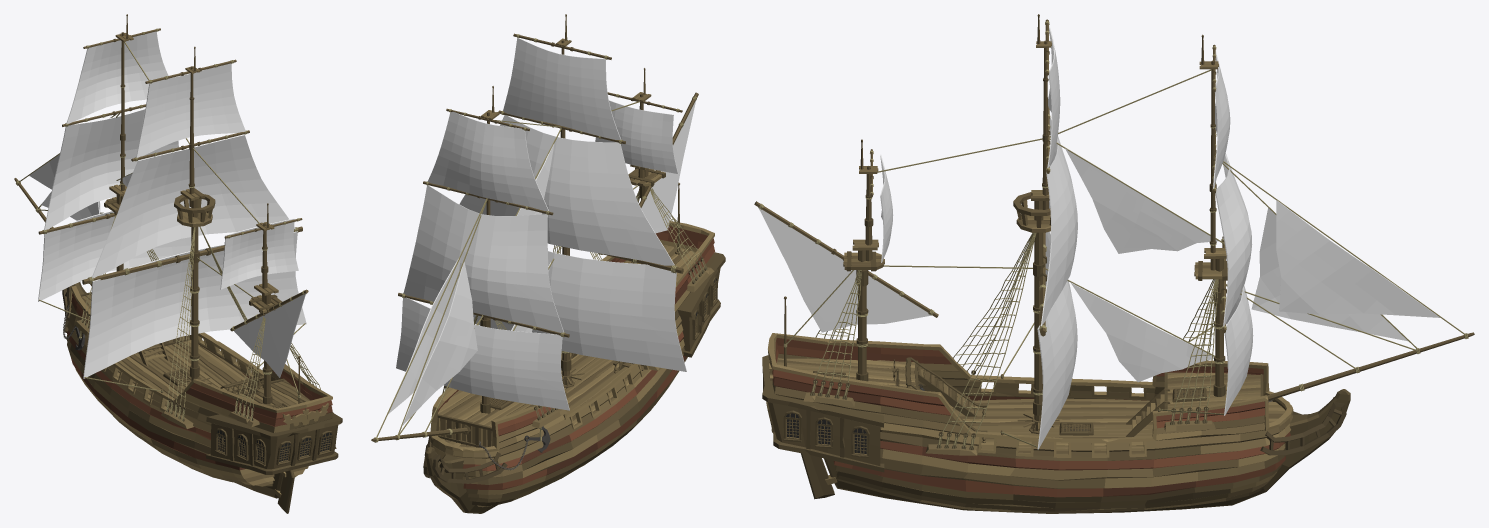
File: ship.fbx
3 renders of one model, left to right at view 1: azimuth 30°, elevation 25°; view 2: azimuth 150°, elevation 25°; view 3: azimuth 270°, elevation 25°, orthographic. The views are drawn at different scales.
Visible parts, largest first — view 1: LargeShip_3_Sails4, LargeShip_3, LargeShip_3_Sails2, LargeShip_3_Sails5, LargeShip_3_Mast2, LargeShip_3_Mast1, LargeShip_3_Mast3, LargeShip_3_Sails1; view 2: LargeShip_3_Sails4, LargeShip_3_Sails2, LargeShip_3, LargeShip_3_Sails1, LargeShip_3_Sails5, LargeShip_3_Mast2, LargeShip_3_Mast1, LargeShip_3_Mast3, LargeShip_3_Sails3; view 3: LargeShip_3, LargeShip_3_Sails1, LargeShip_3_Sails3, LargeShip_3_Sails4, LargeShip_3_Sails5, LargeShip_3_Sails2, LargeShip_3_Mast2, LargeShip_3_Mast3, LargeShip_3_Mast1.
Boxes of the visible parts, x1=… form: LargeShip_3_Sails4: x1=83, y1=63, x2=306, y2=378; LargeShip_3: x1=14, y1=42, x2=342, y2=513; LargeShip_3_Sails2: x1=38, y1=31, x2=191, y2=301; LargeShip_3_Sails5: x1=220, y1=218, x2=305, y2=377; LargeShip_3_Mast2: x1=82, y1=46, x2=302, y2=385; LargeShip_3_Mast1: x1=38, y1=14, x2=160, y2=271; LargeShip_3_Mast3: x1=224, y1=203, x2=308, y2=404; LargeShip_3_Sails1: x1=29, y1=154, x2=100, y2=220; LargeShip_3_Sails4: x1=459, y1=37, x2=686, y2=371; LargeShip_3_Sails2: x1=396, y1=112, x2=569, y2=410; LargeShip_3: x1=371, y1=101, x2=725, y2=513; LargeShip_3_Sails1: x1=388, y1=258, x2=477, y2=425; LargeShip_3_Sails5: x1=595, y1=100, x2=695, y2=233; LargeShip_3_Mast2: x1=498, y1=14, x2=683, y2=388; LargeShip_3_Mast1: x1=398, y1=86, x2=569, y2=413; LargeShip_3_Mast3: x1=607, y1=68, x2=698, y2=264; LargeShip_3_Sails3: x1=511, y1=143, x2=554, y2=332; LargeShip_3: x1=762, y1=69, x2=1474, y2=513; LargeShip_3_Sails1: x1=1251, y1=200, x2=1440, y2=341; LargeShip_3_Sails3: x1=1065, y1=148, x2=1218, y2=382; LargeShip_3_Sails4: x1=1037, y1=25, x2=1077, y2=449; LargeShip_3_Sails5: x1=759, y1=154, x2=931, y2=332; LargeShip_3_Sails2: x1=1213, y1=50, x2=1253, y2=415; LargeShip_3_Mast2: x1=1013, y1=14, x2=1059, y2=434; LargeShip_3_Mast3: x1=754, y1=139, x2=938, y2=381; LargeShip_3_Mast1: x1=1194, y1=34, x2=1227, y2=396.
Bounding box in the file's own units: 2093 × 3684 × 4819.
1 material, 1 textured.
